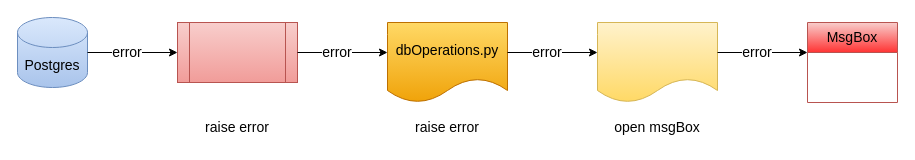
The diagram is 915 pixels wide and 160 high, and some of its shapes have lost their labels. The shapes that lost their labels are listed below. From the top down, each one's centre as x and y in pixels, then its label:
point (237, 52): psycopg2
point (657, 62): administrative.py
